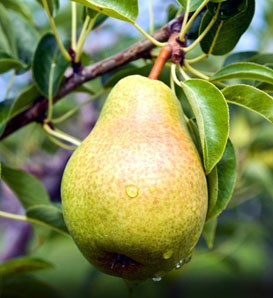pear: (62, 75, 206, 278)
